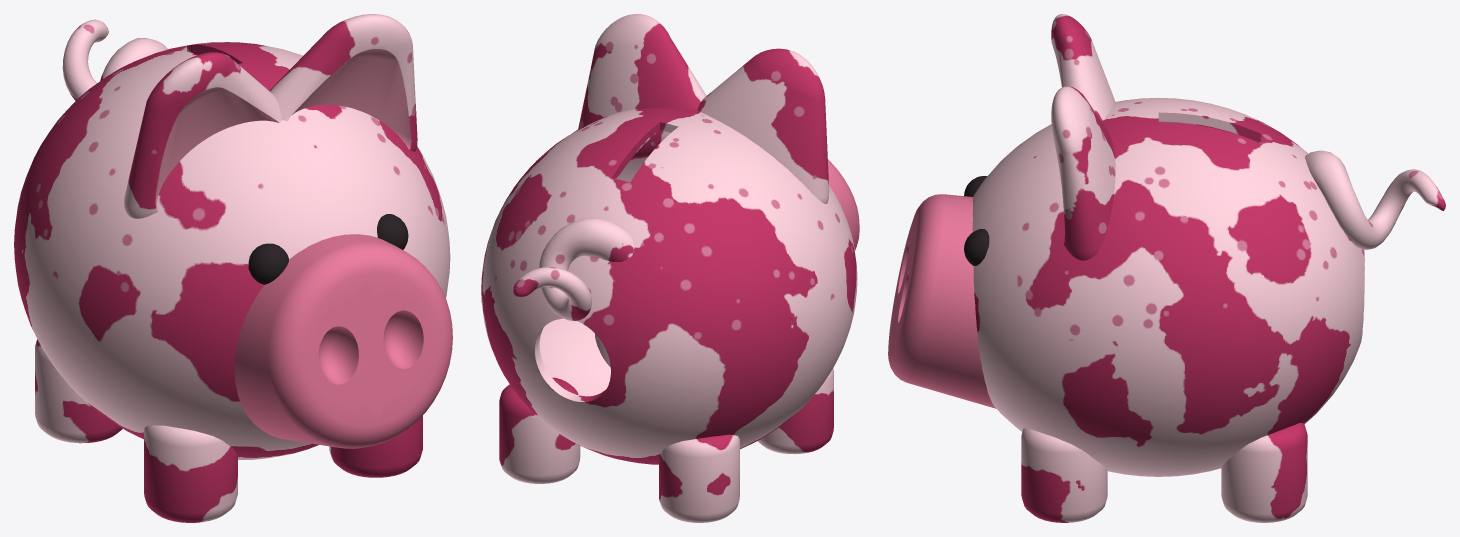
The model's file is strawberrycow-complete.fbx.
3 views of the same model, side by side, from view 1: azimuth 30°, elevation 25°; view 2: azimuth 150°, elevation 25°; view 3: azimuth 270°, elevation 25° (orthographic). The views are drawn at different scales.
Parts seen in each view (by area): view 1: Body, Snout, Ears, Legs, Tail, Eyes; view 2: Body, Ears, Legs, Tail, Snout; view 3: Body, Snout, Legs, Ears, Tail, Eyes.
Boxes of the visible parts, bbox=[...] form: Body: bbox=[14, 42, 450, 459]; Snout: bbox=[234, 234, 452, 448]; Ears: bbox=[124, 14, 417, 218]; Legs: bbox=[35, 339, 422, 522]; Tail: bbox=[62, 19, 167, 100]; Eyes: bbox=[248, 214, 408, 284]; Body: bbox=[481, 107, 857, 464]; Ears: bbox=[578, 14, 829, 203]; Legs: bbox=[499, 334, 833, 522]; Tail: bbox=[513, 217, 634, 321]; Snout: bbox=[828, 159, 859, 250]; Body: bbox=[972, 97, 1364, 476]; Snout: bbox=[888, 194, 996, 408]; Legs: bbox=[1021, 423, 1307, 522]; Ears: bbox=[1051, 14, 1115, 260]; Tail: bbox=[1305, 150, 1445, 249]; Eyes: bbox=[964, 176, 989, 265].
Size of the model in its own units: 1200 by 1397 by 1708.
Materials: 3 (2 with a texture image).
